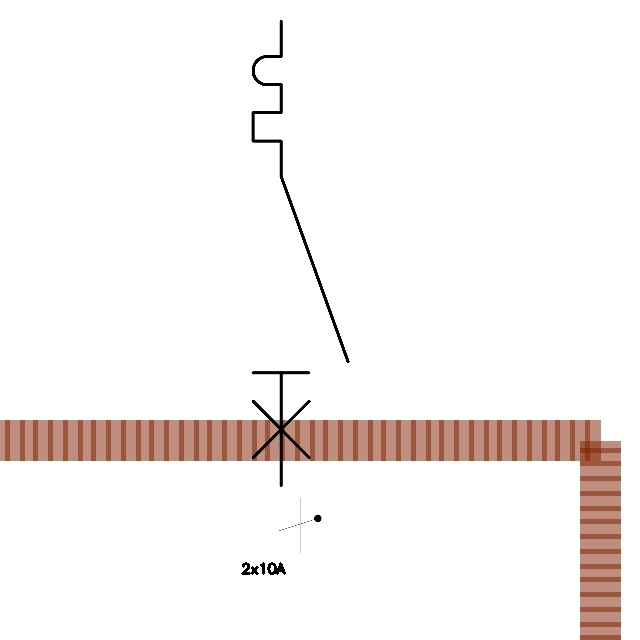interruptor_termomagnetico: (241, 9, 360, 497)
